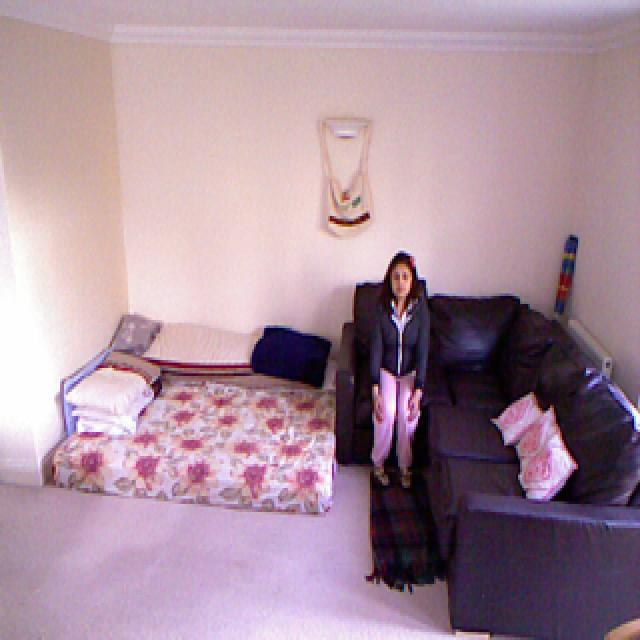sitting: (362, 247, 443, 498)
